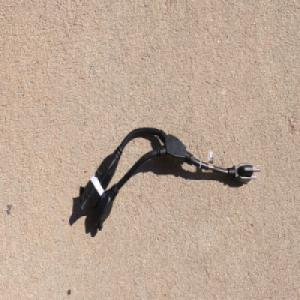Wire: (77, 126, 261, 231)
